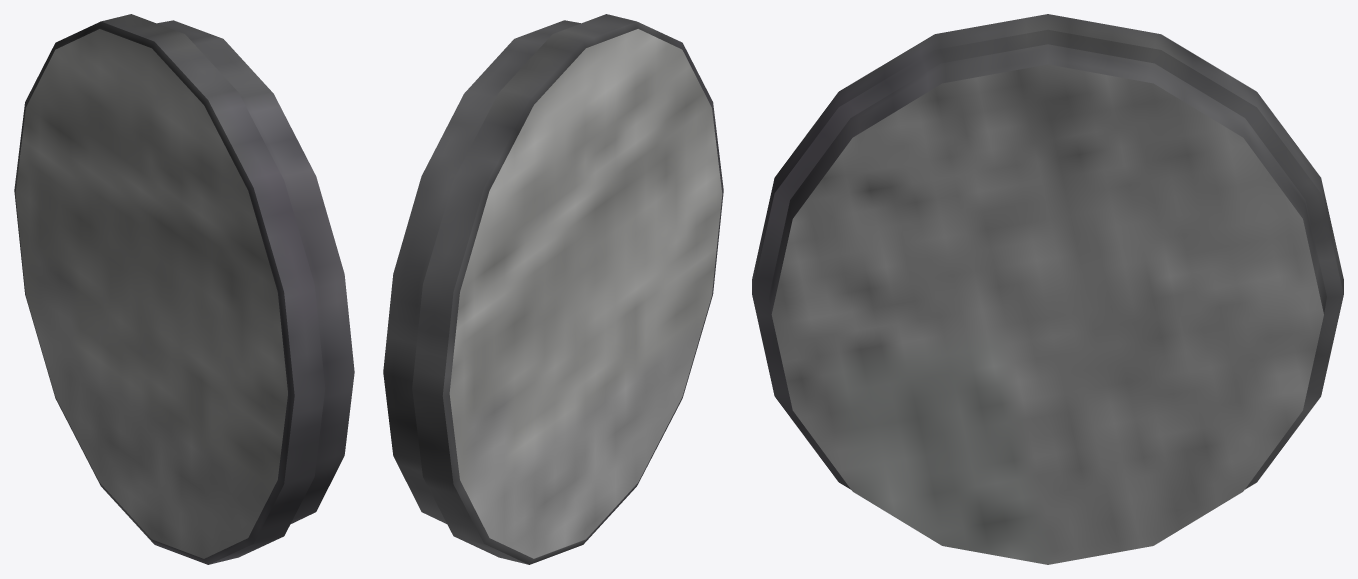
Rendered from RuedaIzq1.obj.
The picture shows the model from 3 angles, left to right: view 1: azimuth 30°, elevation 25°; view 2: azimuth 150°, elevation 25°; view 3: azimuth 270°, elevation 25°; orthographic projection. The views are drawn at different scales.
Parts seen in each view (by area): view 1: RuedaIzq1; view 2: RuedaIzq1; view 3: RuedaIzq1.
Boxes of the visible parts, left/top/right/bottom form: RuedaIzq1: left=14, top=14, right=354, bottom=564; RuedaIzq1: left=383, top=14, right=723, bottom=564; RuedaIzq1: left=752, top=14, right=1343, bottom=564.
Bounding box in the file's own units: 0.0413 × 0.2638 × 0.2667.
Materials: 1 (1 with a texture image).
